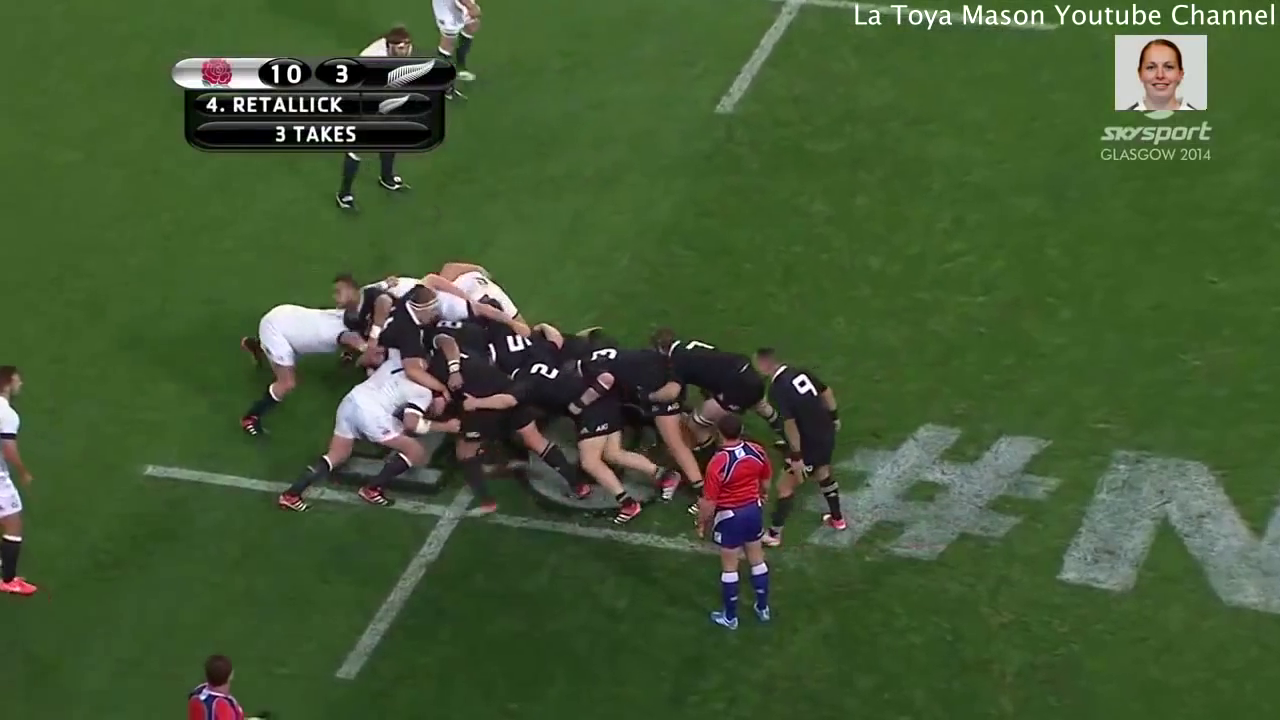10_metre: (129, 396, 792, 694)
player: (450, 353, 685, 529), (274, 349, 455, 523), (552, 324, 725, 504), (743, 336, 866, 547), (213, 275, 356, 456), (689, 406, 787, 636), (645, 328, 792, 460), (1, 351, 49, 612), (354, 277, 449, 374)
